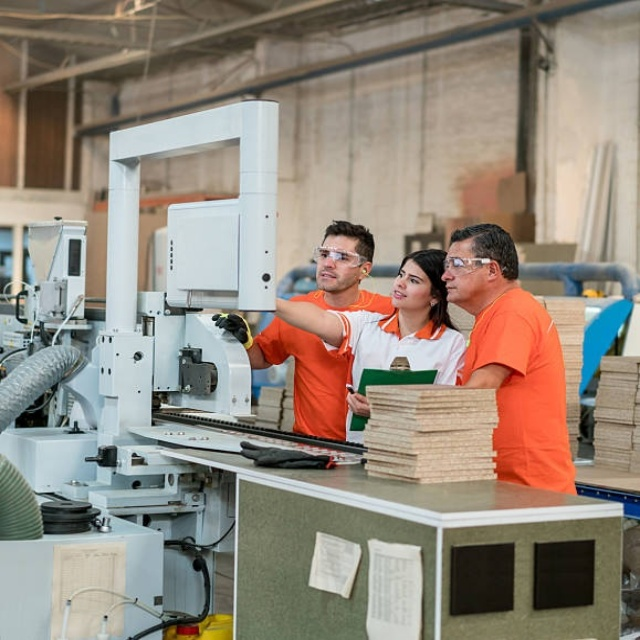Gafas: (315, 246, 367, 267), (443, 257, 497, 274)
Guantes: (211, 312, 256, 348)
Sin_gafas: (396, 262, 433, 287)
Sin_guantes: (344, 388, 371, 419)
Sin_mascara: (443, 279, 466, 298), (317, 270, 339, 289), (392, 285, 409, 306)
